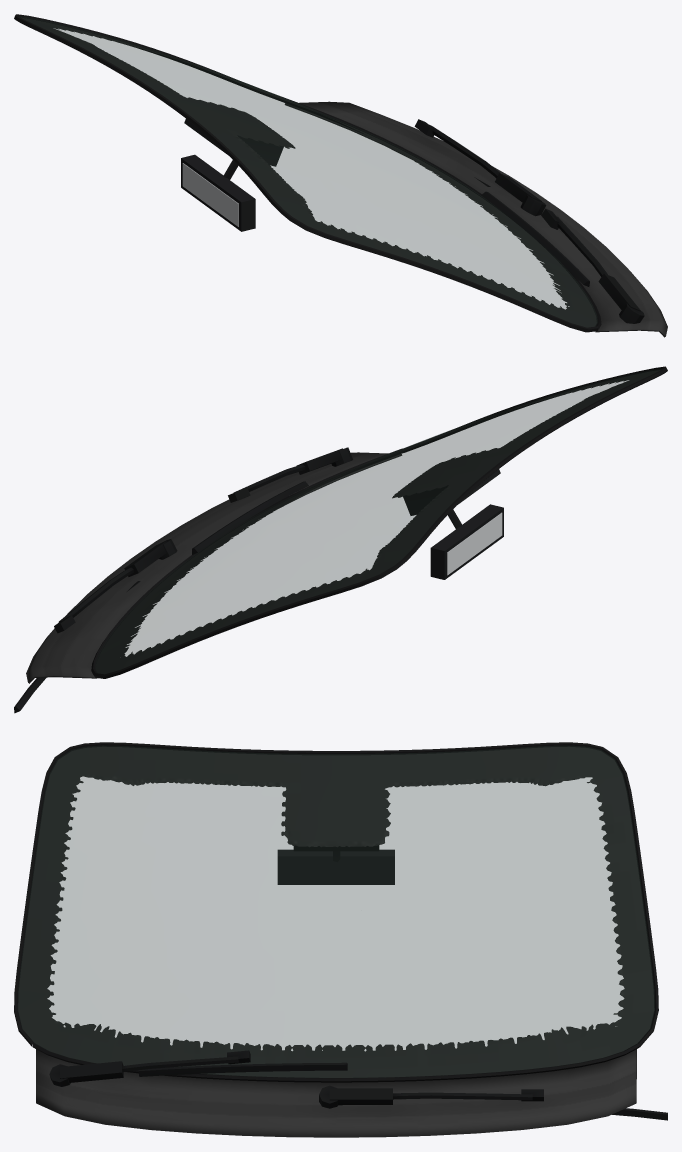
The model's file is windshield-lo-v1.glb.
The picture shows the model from 3 angles, top to bottom: view 1: azimuth 30°, elevation 25°; view 2: azimuth 150°, elevation 25°; view 3: azimuth 270°, elevation 25°; orthographic projection. The views are drawn at different scales.
Visible parts, largest first — view 1: glass, frit, cowl, moulding, mirror, wiper_R_arm, wiper_L_arm, wiper_R_blade; view 2: glass, frit, cowl, moulding, mirror, wiper_L_arm, wiper_R_blade, wiper_R_arm, wiper_L_blade; view 3: glass, frit, cowl, moulding, mirror, wiper_L_arm, wiper_R_arm, wiper_R_blade, wiper_L_blade.
Part boxes in pixels (box(x1,y1,x2,y2)): glass: box(19, 16, 597, 327); frit: box(21, 17, 596, 327); cowl: box(284, 101, 667, 337); moulding: box(14, 14, 601, 332); mirror: box(181, 119, 283, 231); wiper_R_arm: box(555, 216, 644, 323); wiper_L_arm: box(429, 125, 546, 216); wiper_R_blade: box(481, 191, 589, 286); glass: box(95, 368, 662, 673); frit: box(96, 370, 660, 674); cowl: box(26, 452, 402, 683); moulding: box(91, 366, 667, 678); mirror: box(403, 469, 503, 579); wiper_L_arm: box(58, 539, 177, 622); wiper_R_blade: box(192, 481, 308, 554); wiper_R_arm: box(233, 447, 352, 492); wiper_L_blade: box(14, 581, 140, 713); glass: box(18, 745, 654, 1077); frit: box(18, 746, 654, 1077); cowl: box(36, 1049, 636, 1137); moulding: box(14, 742, 658, 1082); mirror: box(277, 845, 394, 884); wiper_L_arm: box(319, 1085, 532, 1108); wiper_R_arm: box(49, 1056, 238, 1086); wiper_R_blade: box(138, 1050, 347, 1076); wiper_L_blade: box(402, 1089, 667, 1120).
Bounding box in the file's own units: 1.04 × 0.518 × 1.45.
Materials: 8 (2 with a texture image).
